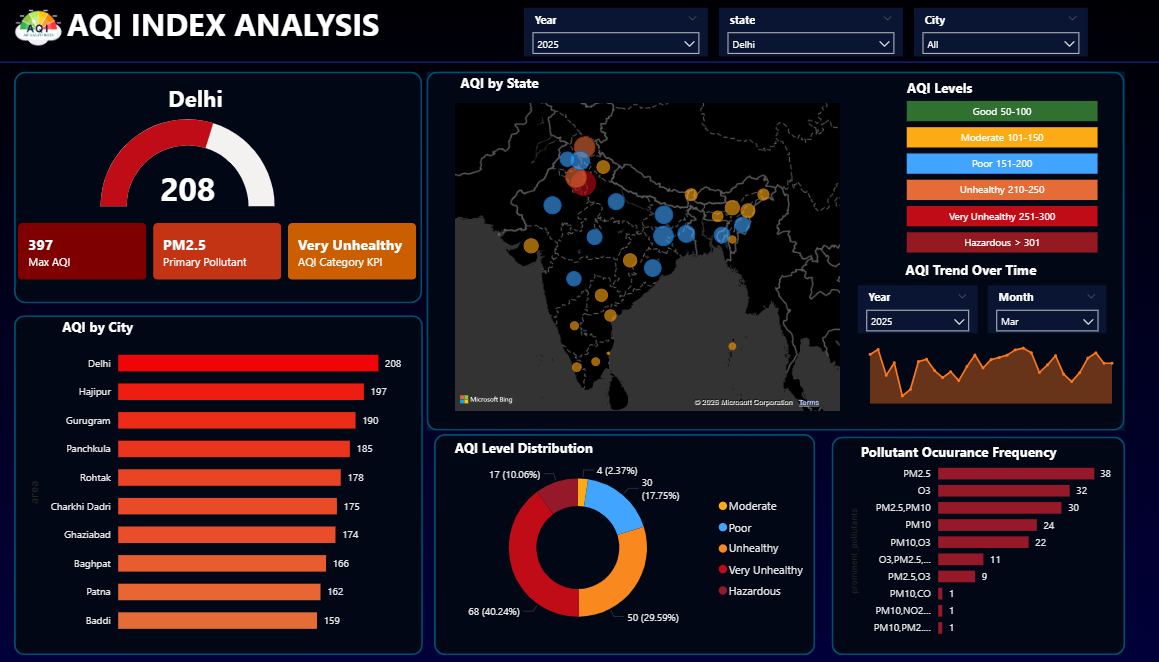

This screenshot's page, from the dashboard's own definition file:
{"tool":"powerbi","page":{"name":"AQI INDEX ANALYSIS","canvas":[1400,800],"ordinal":0},"visuals":[{"type":"shape","box":[18.6,87.1,490,278.6],"z":0},{"type":"textbox","box":[76.5,0,412.7,60],"z":1000},{"type":"image","box":[18,0,58.5,69],"z":2000},{"type":"gauge","fields":{"Y":["day_wise_aqi_data.Avg AQI"]},"box":[76.3,139.9,300.1,114.5],"z":3000},{"type":"slicer","fields":{"Values":["Calendar Table.Year"]},"box":[630.4,10.5,220.6,58.5],"z":4000},{"type":"slicer","fields":{"Values":["day_wise_aqi_data.state"]},"box":[864.5,10.5,220.6,58.5],"z":5000},{"type":"slicer","fields":{"Values":["day_wise_aqi_data.area"]},"box":[1098.6,10.5,208.6,58.5],"z":6000},{"type":"cardVisual","fields":{"Data":["Max(day_wise_aqi_data.aqi_value)","day_wise_aqi_data.Primary Pollutant","day_wise_aqi_data.AQI Category KPI"]},"box":[18.6,264.3,490,78.6],"z":7000},{"type":"card","fields":{"Values":["day_wise_aqi_data.KPI Title"]},"box":[1.3,87.8,469.3,66.1],"z":8000},{"type":"shape","box":[513.8,87.8,838.1,431.1],"z":9000},{"type":"map","fields":{"Category":["day_wise_aqi_data.state"],"Size":["day_wise_aqi_data.Avg AQI"]},"box":[543.1,119.5,470.6,380.3],"z":10000},{"type":"card","fields":{"Values":["day_wise_aqi_data.State Map Title"]},"box":[514.3,85.7,172.9,34.3],"z":11000},{"type":"barChart","fields":{"Category":["day_wise_aqi_data.AQI Category"],"Y":["day_wise_aqi_data.Label"]},"box":[1084.9,109.4,239.1,200.9],"z":12000},{"type":"card","fields":{"Values":["day_wise_aqi_data.AQI Level Title"]},"box":[1042.9,91.6,173,34.3],"z":13000},{"type":"areaChart","fields":{"Category":["Calendar Table.Date.Variation.Date Hierarchy.Day"],"Y":["day_wise_aqi_data.Avg AQI"]},"box":[1031.4,400.6,320.5,90.3],"z":14000},{"type":"slicer","fields":{"Values":["Calendar Table.Date.Variation.Date Hierarchy.Year"]},"box":[1031.4,343.4,143.7,57.2],"z":15000},{"type":"slicer","fields":{"Values":["Calendar Table.Month"]},"box":[1186.6,343.4,142.4,57.2],"z":16000},{"type":"card","fields":{"Values":["day_wise_aqi_data.Title for Monthly Chart"]},"box":[1077.2,310.3,179.3,33.1],"z":17000},{"type":"shape","box":[17.8,379,490.9,408.2],"z":18000},{"type":"barChart","fields":{"Category":["day_wise_aqi_data.area"],"Y":["day_wise_aqi_data.Avg AQI"]},"box":[28.5,400.7,462.3,375.2],"z":19000},{"type":"card","fields":{"Values":["day_wise_aqi_data.Title for City"]},"box":[28.5,379.7,180.1,33],"z":20000},{"type":"shape","box":[522.3,522.3,457.8,265.7],"z":21000},{"type":"donutChart","fields":{"Category":["day_wise_aqi_data.AQI Category"],"Y":["day_wise_aqi_data.Count of Rows"]},"box":[522.3,541.8,457.8,234.1],"z":22000},{"type":"card","fields":{"Values":["day_wise_aqi_data.Donut Title"]},"box":[540.3,525.3,180.1,33],"z":22001},{"type":"shape","box":[999.6,525.3,352.7,262.7],"z":22002},{"type":"barChart","fields":{"Y":["day_wise_aqi_data.Count of Rows"],"Category":["day_wise_aqi_data.prominent_pollutants"]},"box":[1016.1,541.8,324.2,234.1],"z":22003},{"type":"card","fields":{"Values":["day_wise_aqi_data.Pollutant Title"]},"box":[1023.6,517.8,258.1,55.5],"z":22004},{"type":"shape","box":[0,60,1400.3,31.5],"z":22005}]}

Visuals, with their boxes in screenshot pixels (x1, y1, x2, y2), scaled from the page's 1400x800 canvas onto the 1159x662 screenshot:
shape: 15:72:421:303
textbox: 63:0:405:50
image: 15:0:63:57
gauge - day_wise_aqi_data.Avg AQI: 63:116:312:211
slicer - Calendar Table.Year: 522:9:705:57
slicer - day_wise_aqi_data.state: 716:9:898:57
slicer - day_wise_aqi_data.area: 909:9:1082:57
cardVisual - Max(day_wise_aqi_data.aqi_value) x day_wise_aqi_data.Primary Pollutant: 15:219:421:284
card - day_wise_aqi_data.KPI Title: 1:73:390:127
shape: 425:73:1119:429
map - day_wise_aqi_data.state x day_wise_aqi_data.Avg AQI: 450:99:839:414
card - day_wise_aqi_data.State Map Title: 426:71:569:99
barChart - day_wise_aqi_data.AQI Category x day_wise_aqi_data.Label: 898:91:1096:257
card - day_wise_aqi_data.AQI Level Title: 863:76:1007:104
areaChart - Calendar Table.Date.Variation.Date Hierarchy.Day x day_wise_aqi_data.Avg AQI: 854:331:1119:406
slicer - Calendar Table.Date.Variation.Date Hierarchy.Year: 854:284:973:331
slicer - Calendar Table.Month: 982:284:1100:331
card - day_wise_aqi_data.Title for Monthly Chart: 892:257:1040:284
shape: 15:314:421:651
barChart - day_wise_aqi_data.area x day_wise_aqi_data.Avg AQI: 24:332:406:642
card - day_wise_aqi_data.Title for City: 24:314:173:342
shape: 432:432:811:652
donutChart - day_wise_aqi_data.AQI Category x day_wise_aqi_data.Count of Rows: 432:448:811:642
card - day_wise_aqi_data.Donut Title: 447:435:596:462
shape: 828:435:1120:652
barChart - day_wise_aqi_data.Count of Rows x day_wise_aqi_data.prominent_pollutants: 841:448:1110:642
card - day_wise_aqi_data.Pollutant Title: 847:428:1061:474
shape: 0:50:1158:76
